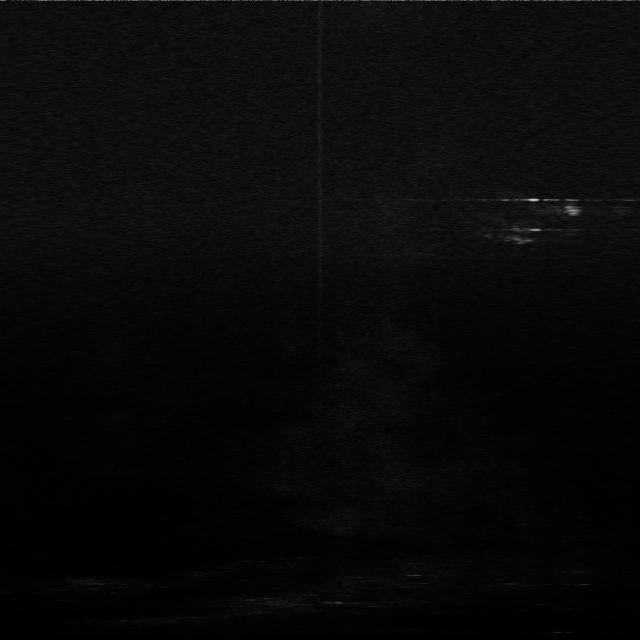rov: (560, 202, 588, 218)
